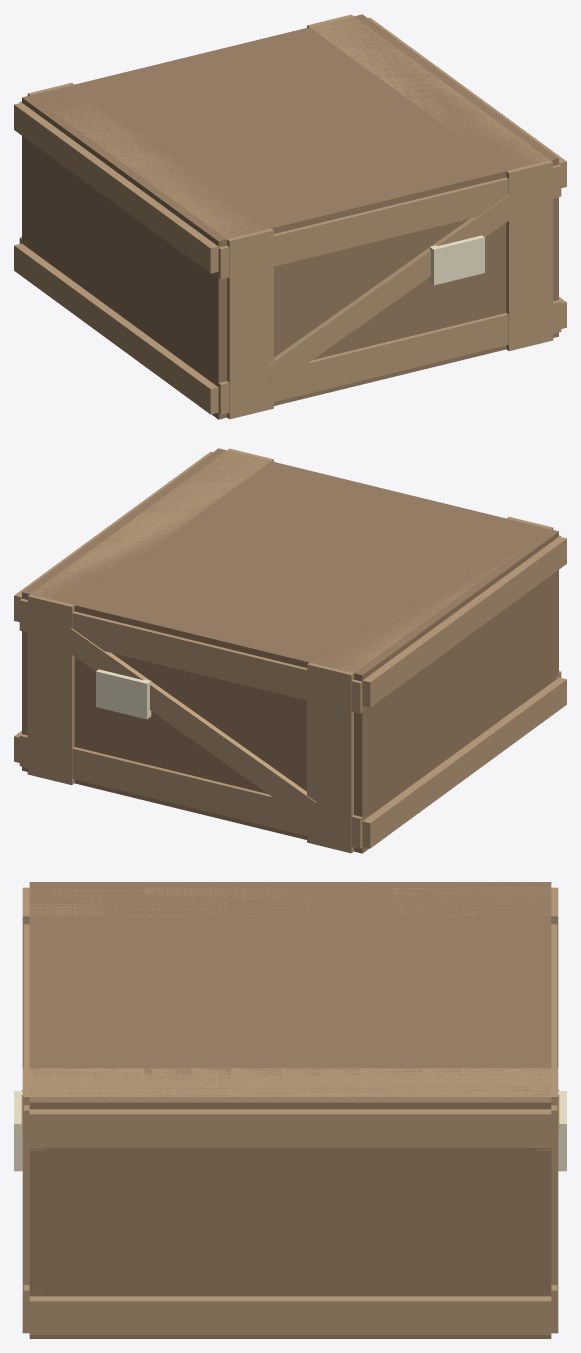
File: PotteryDeliveryCrate.glb
The picture shows the model from 3 angles, top to bottom: view 1: azimuth 30°, elevation 25°; view 2: azimuth 150°, elevation 25°; view 3: azimuth 270°, elevation 25°; orthographic projection. The views are drawn at different scales.
Visible parts, largest first — view 1: PotteryDeliveryCrate; view 2: PotteryDeliveryCrate; view 3: PotteryDeliveryCrate.
Boxes of the visible parts, bbox=[...] form: PotteryDeliveryCrate: bbox=[14, 14, 566, 419]; PotteryDeliveryCrate: bbox=[14, 448, 566, 853]; PotteryDeliveryCrate: bbox=[14, 882, 566, 1338].
Bounding box in the file's own units: 2.09 × 1 × 2.12.
